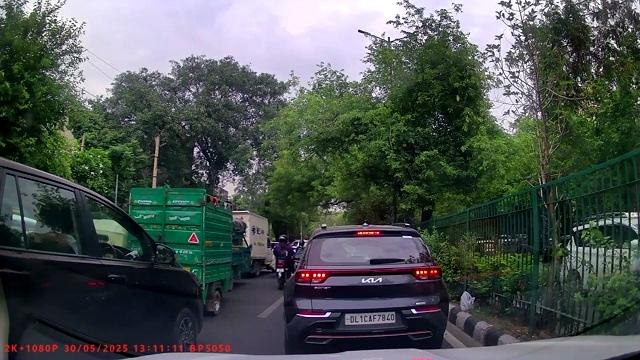motorcycle_with_helmet: (272, 233, 296, 289)
